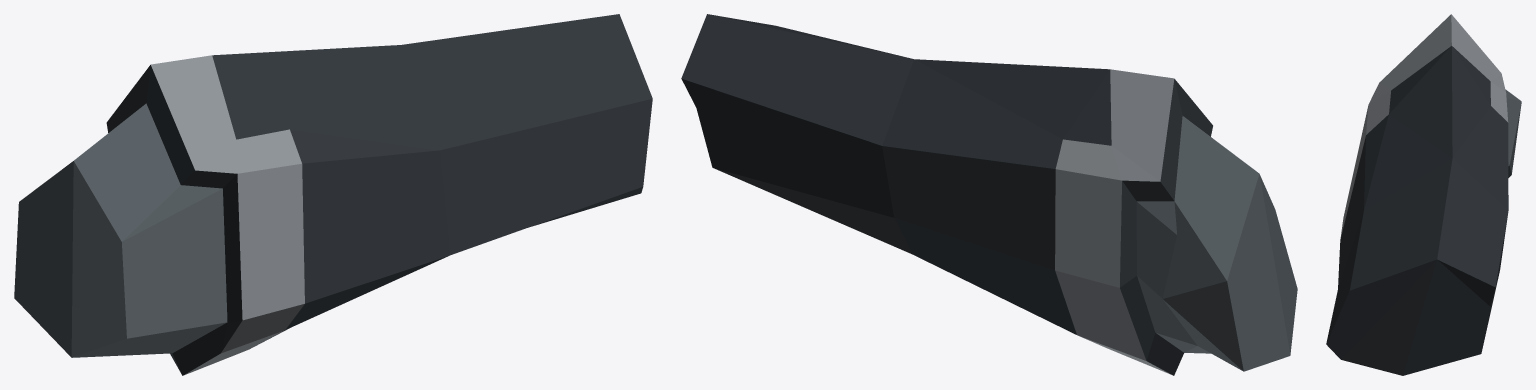
Rendered from Chr_ArmLowerLeft_Female_05_Static.fbx.
3 renders of one model, left to right at view 1: azimuth 30°, elevation 25°; view 2: azimuth 150°, elevation 25°; view 3: azimuth 270°, elevation 25°, orthographic. The views are drawn at different scales.
Visible parts, largest first — view 1: Chr_ArmLowerLeft_Female_05_Static; view 2: Chr_ArmLowerLeft_Female_05_Static; view 3: Chr_ArmLowerLeft_Female_05_Static.
Part boxes in pixels (x1=…): Chr_ArmLowerLeft_Female_05_Static: x1=14, y1=14, x2=652, y2=375; Chr_ArmLowerLeft_Female_05_Static: x1=681, y1=14, x2=1297, y2=375; Chr_ArmLowerLeft_Female_05_Static: x1=1326, y1=14, x2=1521, y2=375.
Bounding box in the file's own units: 0.2992 × 0.1543 × 0.103.
